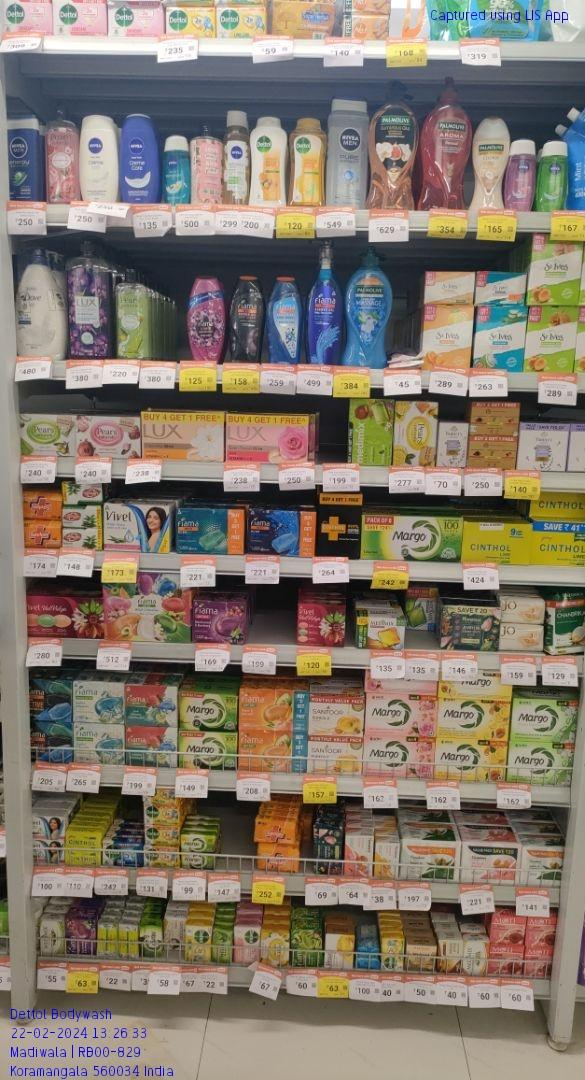Dettol_Bodywash_Refresh: (290, 116, 325, 206)
Dettol_Nourish_Body_Wash_250ML: (250, 116, 288, 208)
Nivea_Creme_Care_Body_Wash_250ML: (121, 114, 162, 202)
Nivea_Creme_Soft_Body_Wash_250ML: (80, 114, 120, 203)
Palmolive_Coconut_Joy_Exfoliating_Body_Wash_250ML: (470, 115, 505, 210)
Pears_Naturale_Aloe_Vera_Body_Wash_250ML: (115, 268, 151, 359)
